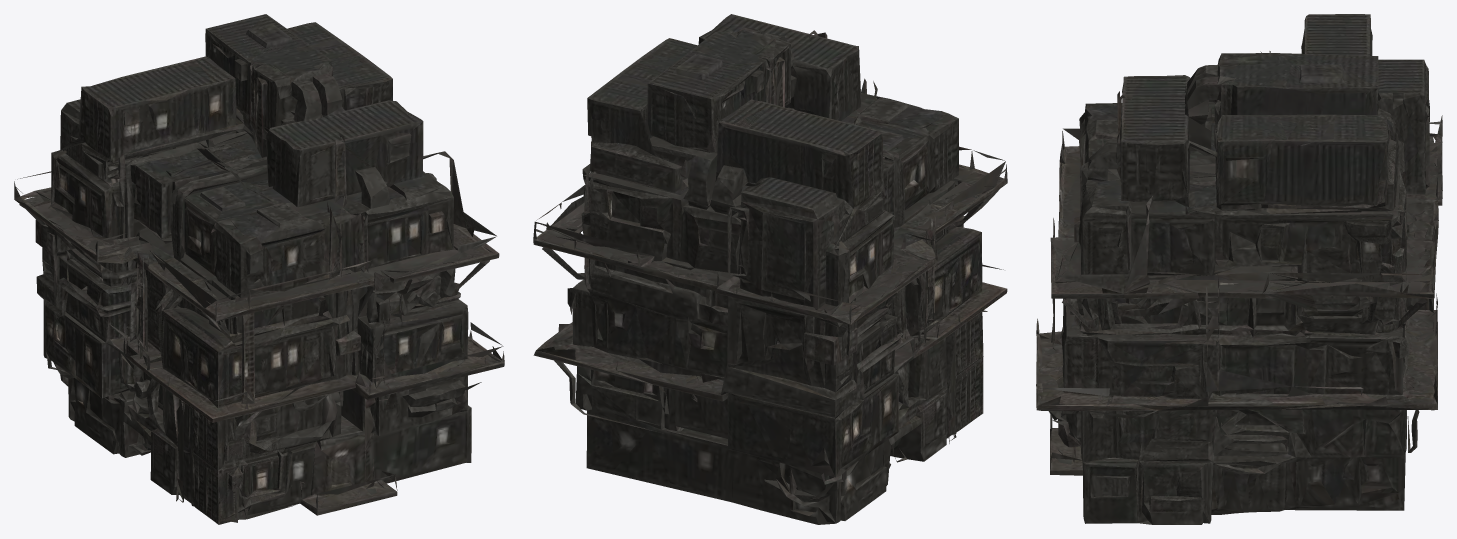
The model's file is kafreneshack.glb.
3 renders of one model, left to right at view 1: azimuth 30°, elevation 25°; view 2: azimuth 150°, elevation 25°; view 3: azimuth 270°, elevation 25°, orthographic. The views are drawn at different scales.
Visible parts, largest first — view 1: kafreneshack-centred; view 2: kafreneshack-centred; view 3: kafreneshack-centred.
Part boxes in pixels (x1,y1,x2,y2): kafreneshack-centred: (14,14,504,524); kafreneshack-centred: (533,14,1007,524); kafreneshack-centred: (1036,14,1442,524).
Bounding box in the file's own units: 11.51 × 14 × 12.2.
Materials: 1 (1 with a texture image).
